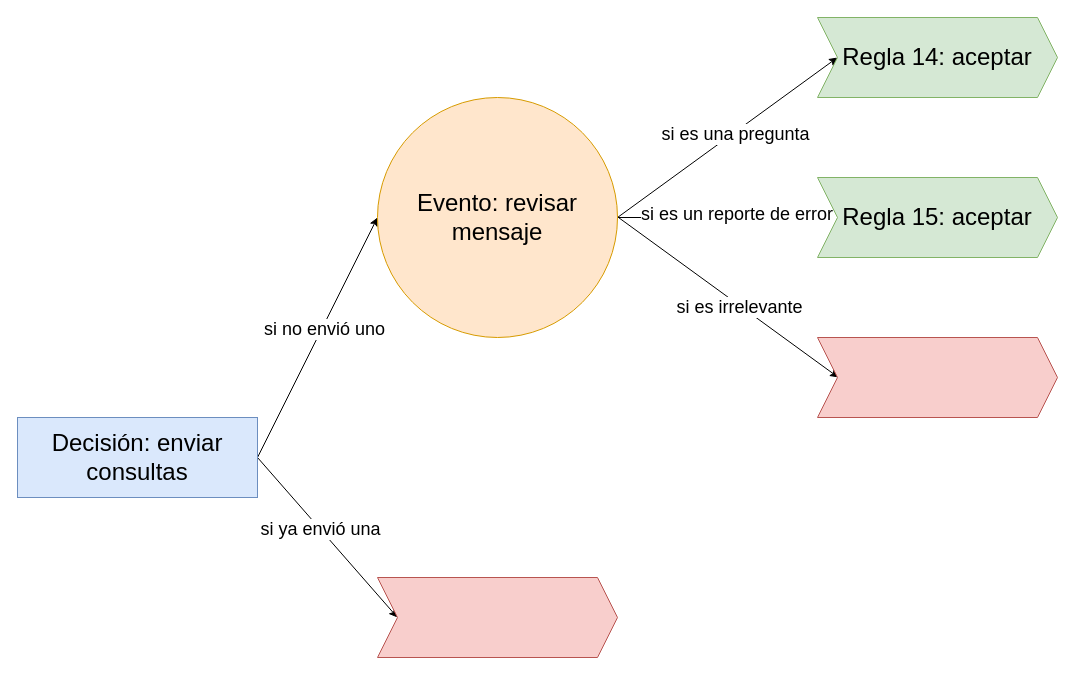
Image size: 1075x675. Some labels were removed from this diagram. The centre of each missing label's shape, as x and y in pixels:
"Regla 16: rechazar" goes at (937,377).
"Regla 17: rechazar por 6 horas" goes at (497,617).
